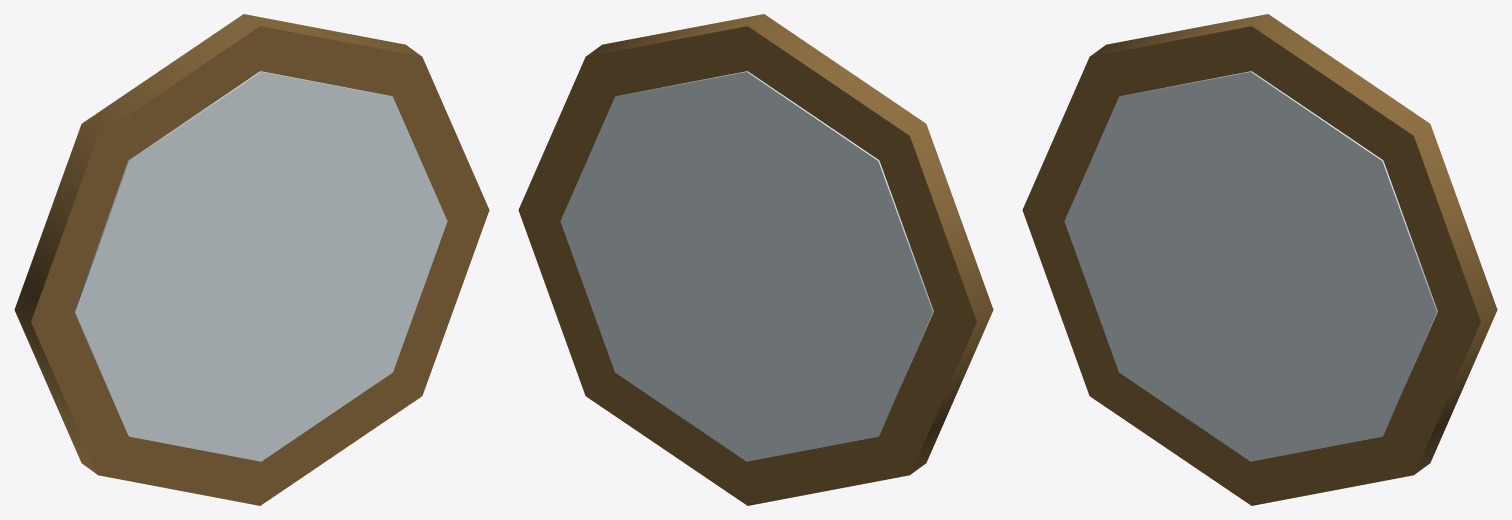
Rendered from mirror-octagon.obj.
3 views of the same model, side by side, from view 1: azimuth 30°, elevation 25°; view 2: azimuth 150°, elevation 25°; view 3: azimuth 330°, elevation 25° (orthographic).
Visible parts, largest first — view 1: mirror-octagon_1, mirror-octagon_0; view 2: mirror-octagon_1, mirror-octagon_0; view 3: mirror-octagon_1, mirror-octagon_0.
Boxes of the visible parts, x1,y1,x2,y2 form: mirror-octagon_1: (74,71,447,461); mirror-octagon_0: (14,14,489,505); mirror-octagon_1: (560,71,933,461); mirror-octagon_0: (518,14,993,505); mirror-octagon_1: (1064,71,1437,461); mirror-octagon_0: (1022,14,1497,505).
Size of the model in its own units: 0.64 by 0.64 by 0.045.
